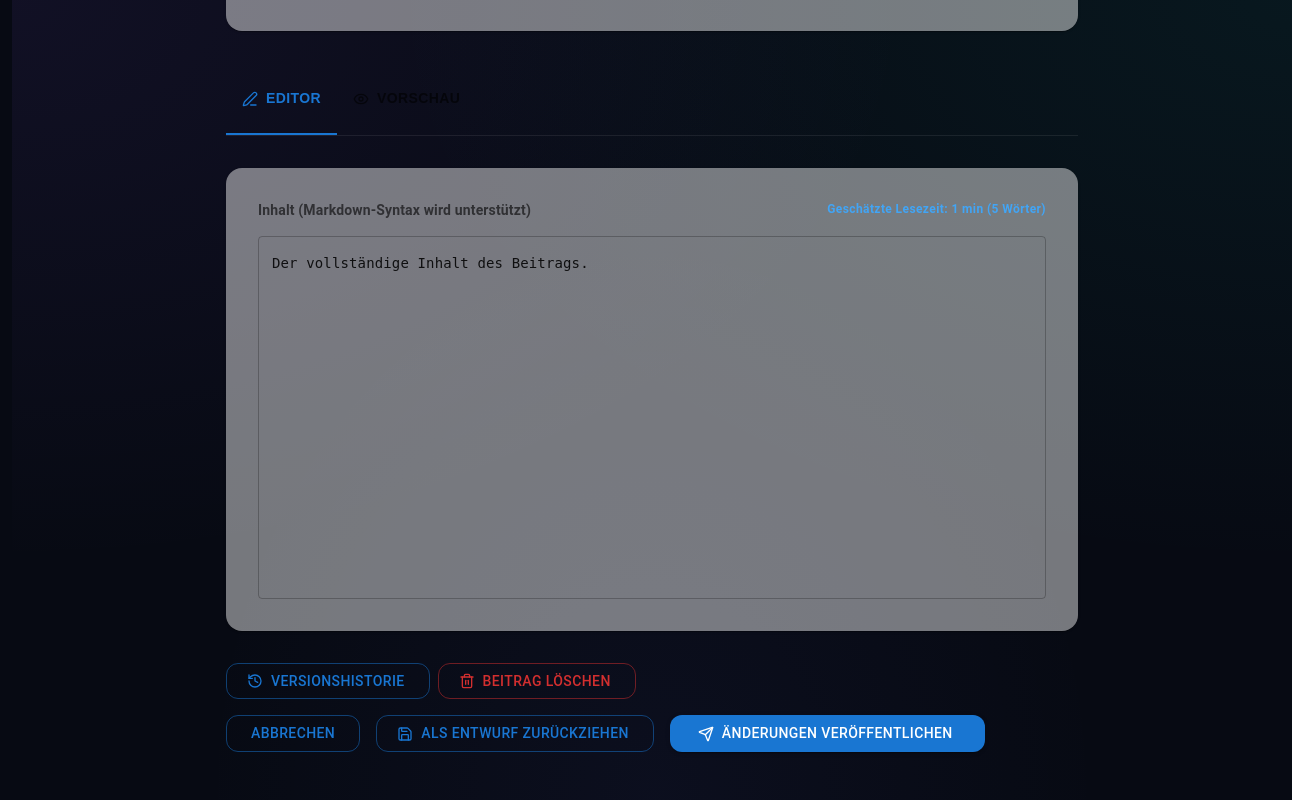
it: EditBlog publishing › opens the reader and shows global feedback after publishing changes
The width and height of the screenshot is (1292, 800).
(page scrolled)
Click the button "Änderungen veröffentlichen" at (827, 734), box [670, 715, 985, 752]
(page scrolled)
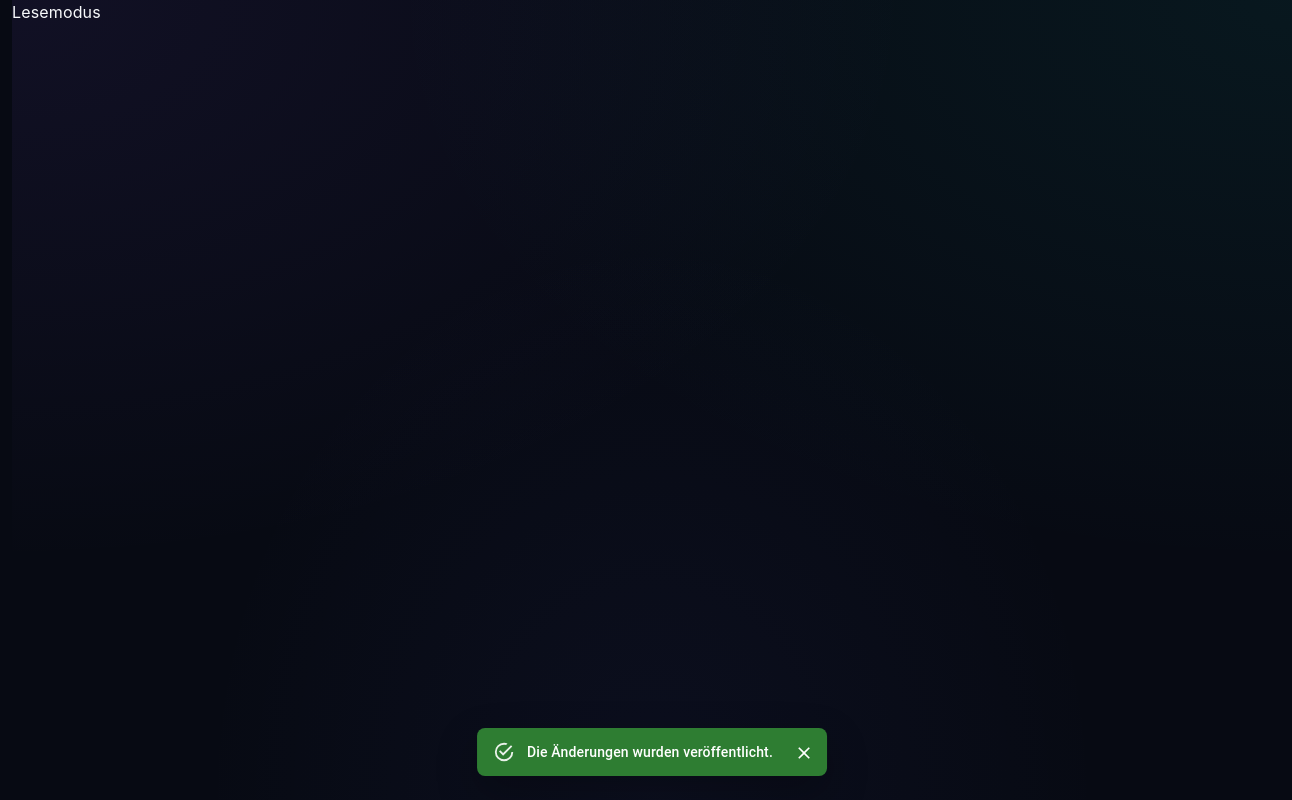
Result: the text "Lesemodus" is shown at [12, 2, 101, 22]
Result: the text "Die Änderungen wurden veröffentlicht." is shown at [527, 744, 773, 760]
